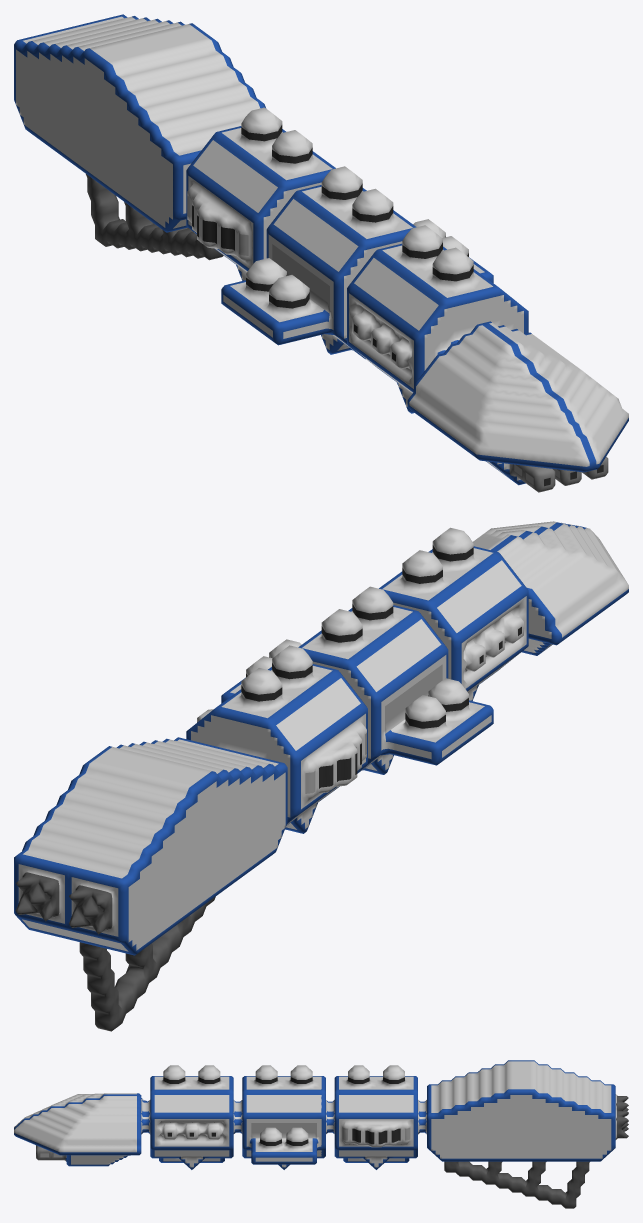
The model's file is diadochi-4-moloch-class.obj.
3 renders of one model, top to bottom at view 1: azimuth 30°, elevation 25°; view 2: azimuth 150°, elevation 25°; view 3: azimuth 270°, elevation 25°, orthographic. The views are drawn at different scales.
Size of the model in its own units: 33 by 35 by 140.
Materials: 1 (1 with a texture image).
